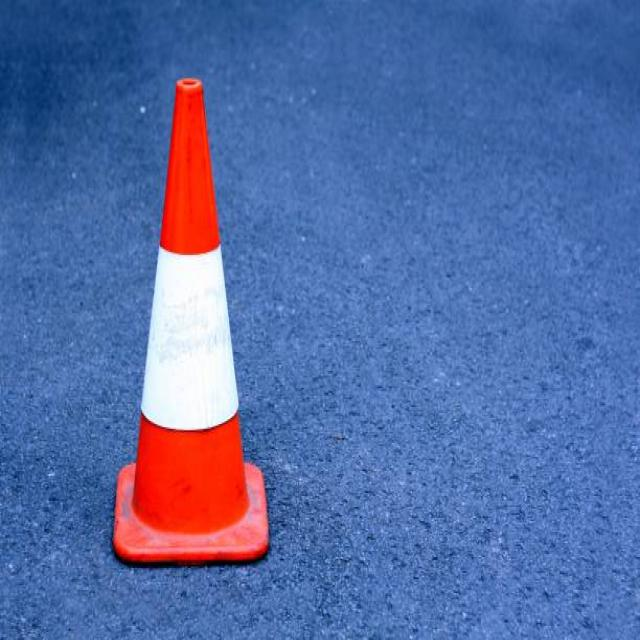Traffic Cone: (85, 42, 289, 594)
